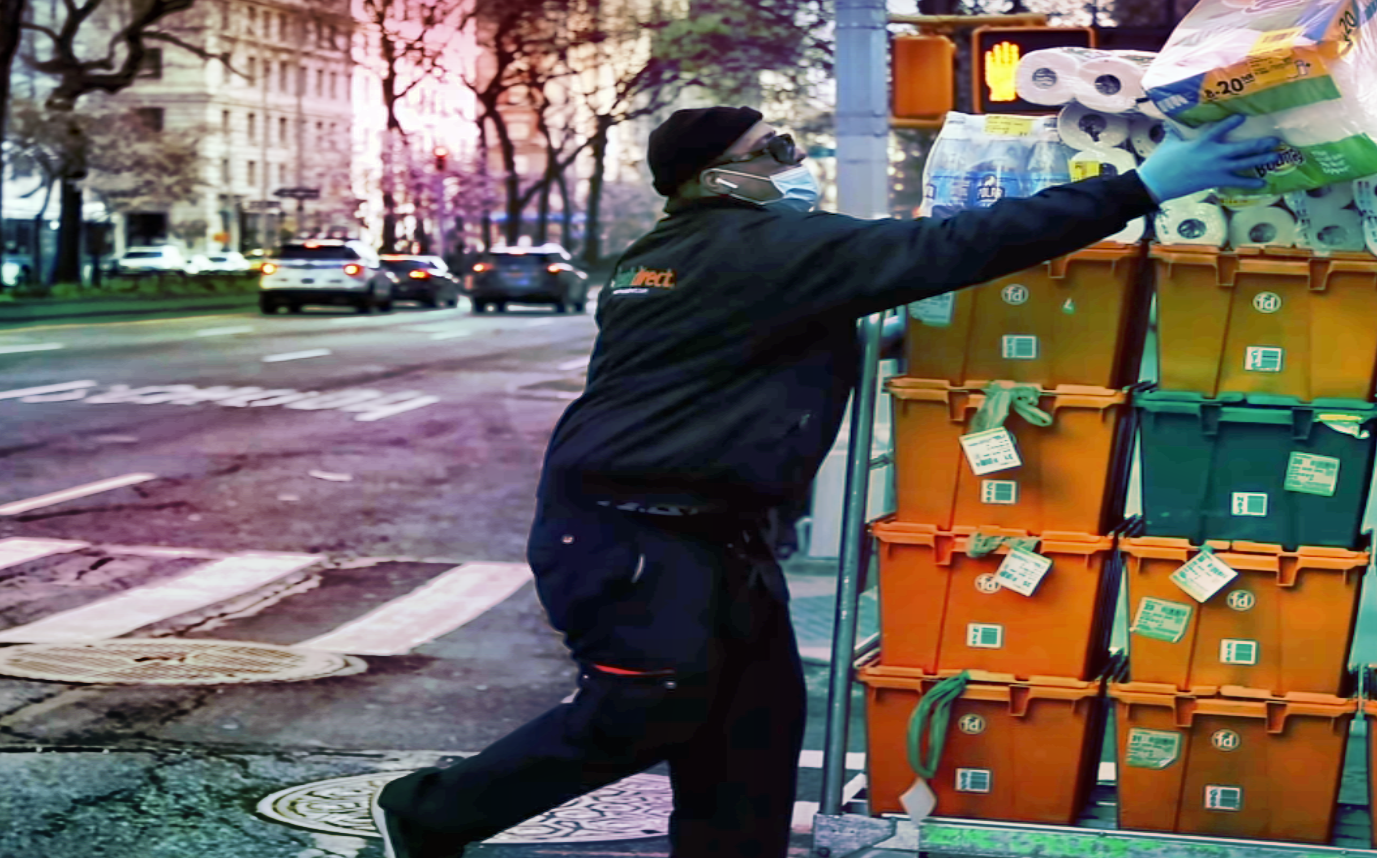mask_weared_incorrect: (650, 104, 822, 217)
